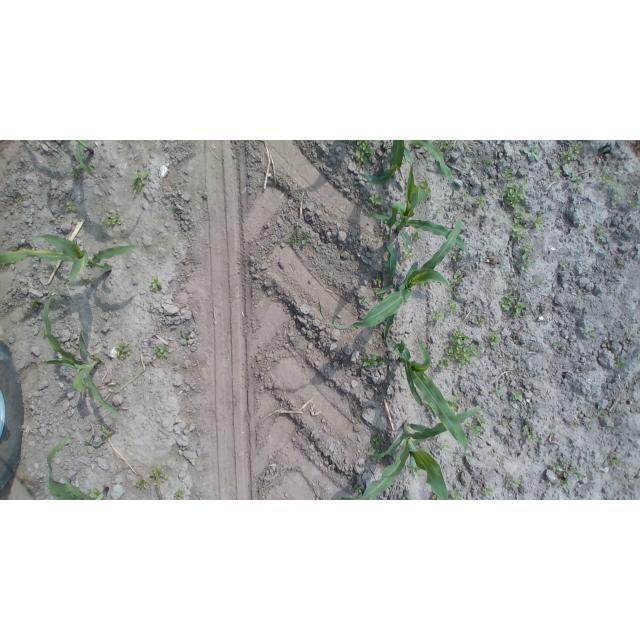Maize: (318, 218, 462, 342), (361, 160, 471, 297), (336, 408, 489, 501), (40, 291, 121, 415), (388, 334, 468, 458), (1, 235, 140, 286), (362, 141, 454, 206), (47, 436, 109, 500), (76, 140, 98, 178), (83, 425, 114, 447)
Weeds: (438, 326, 479, 370), (551, 461, 586, 487), (502, 183, 525, 208), (353, 140, 376, 164), (131, 168, 149, 198), (511, 205, 526, 240), (465, 415, 487, 435), (289, 228, 311, 246), (100, 211, 122, 229), (562, 143, 582, 162), (365, 434, 384, 454), (521, 243, 533, 271), (523, 146, 542, 163), (595, 219, 609, 241), (505, 474, 523, 491), (362, 351, 378, 369), (114, 342, 132, 358), (502, 291, 515, 313), (150, 272, 164, 292), (604, 452, 621, 468), (449, 396, 463, 414), (149, 464, 163, 481), (525, 216, 543, 229), (156, 343, 170, 359), (447, 296, 458, 316), (430, 312, 446, 325), (514, 300, 527, 316), (509, 389, 524, 402), (369, 193, 382, 208), (441, 437, 452, 454), (502, 168, 515, 182), (550, 164, 562, 179), (489, 331, 500, 346), (582, 329, 597, 340), (451, 274, 463, 287), (174, 488, 186, 501), (599, 174, 613, 185), (615, 355, 626, 369), (481, 486, 493, 498), (135, 480, 148, 491), (405, 248, 416, 260), (71, 167, 82, 179), (453, 487, 464, 499), (527, 432, 538, 444), (490, 388, 500, 401), (411, 231, 421, 244), (629, 199, 640, 210), (616, 257, 626, 269), (482, 157, 495, 166), (613, 191, 624, 201), (65, 201, 75, 212), (354, 483, 364, 494), (440, 141, 452, 150), (477, 196, 486, 208), (535, 276, 545, 286), (30, 299, 40, 309), (501, 418, 510, 429), (597, 410, 608, 419), (579, 223, 588, 234), (89, 488, 100, 497), (434, 207, 442, 219), (183, 332, 191, 344), (571, 177, 581, 186), (461, 190, 469, 201), (378, 359, 390, 366), (559, 261, 568, 270), (453, 254, 462, 263), (475, 318, 485, 326), (553, 340, 561, 349), (419, 445, 431, 451), (524, 422, 533, 430), (375, 275, 381, 286), (613, 180, 621, 188), (163, 474, 170, 483), (570, 420, 577, 428), (80, 277, 88, 284), (413, 439, 421, 446), (521, 181, 528, 188), (417, 471, 424, 478), (90, 163, 98, 169), (607, 340, 612, 349), (171, 207, 177, 213), (586, 427, 593, 432), (480, 354, 486, 359), (434, 140, 441, 144), (380, 294, 384, 299), (362, 301, 367, 304), (433, 495, 436, 500), (344, 363, 347, 366)
